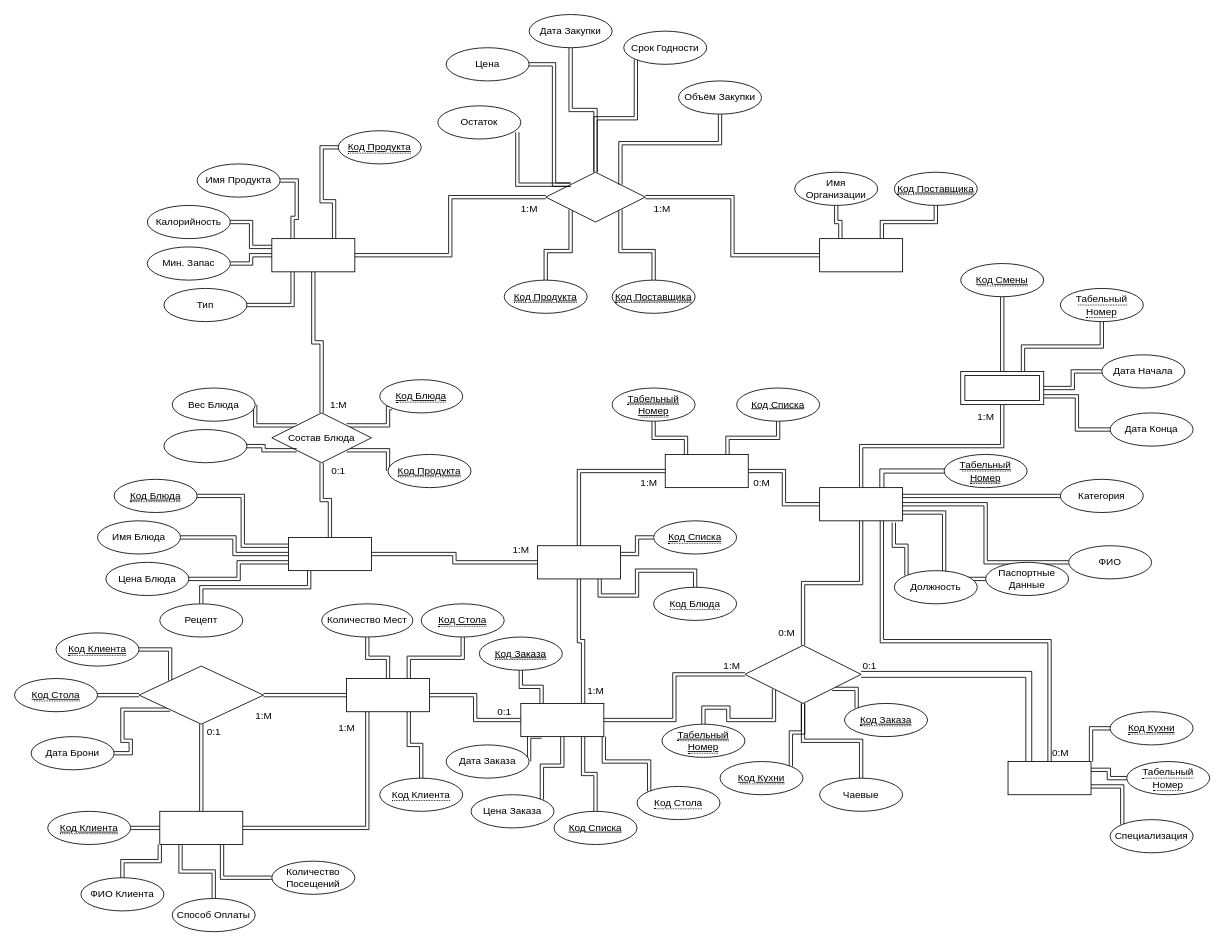
This 1224x946 diagram has some shape labels left out. Each missing label, with the box of its shape:
Блюдо: (288, 537, 371, 571)
Бронирование Стола: (138, 665, 264, 724)
Заказ: (520, 703, 604, 737)
Закупка Товара: (545, 171, 645, 222)
Клиент: (159, 810, 243, 845)
Кухня: (1007, 761, 1091, 795)
Навыки: (664, 454, 748, 488)
Общая Калорийность: (163, 429, 247, 463)
Оформление Заказа: (744, 644, 861, 703)
Поставщик: (819, 238, 903, 272)
Продукт: (271, 238, 355, 272)
Смена: (960, 371, 1044, 405)
Сотрудник: (819, 487, 903, 521)
Список Блюд: (537, 545, 620, 579)
Стол: (346, 678, 430, 712)
